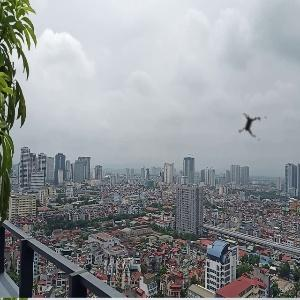drone: (224, 98, 281, 155)
